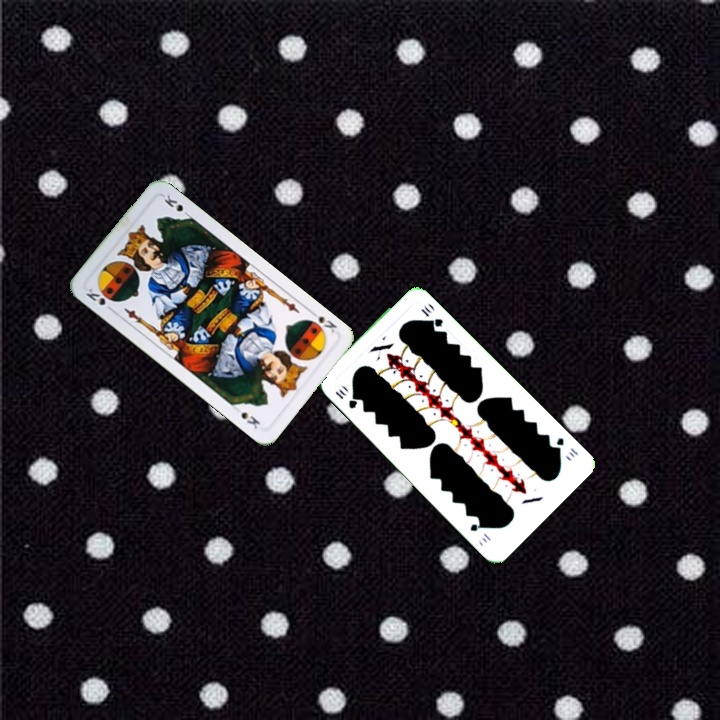G10: (549, 433, 581, 460), (331, 385, 360, 411)
SK: (82, 284, 117, 315), (306, 306, 340, 335)
